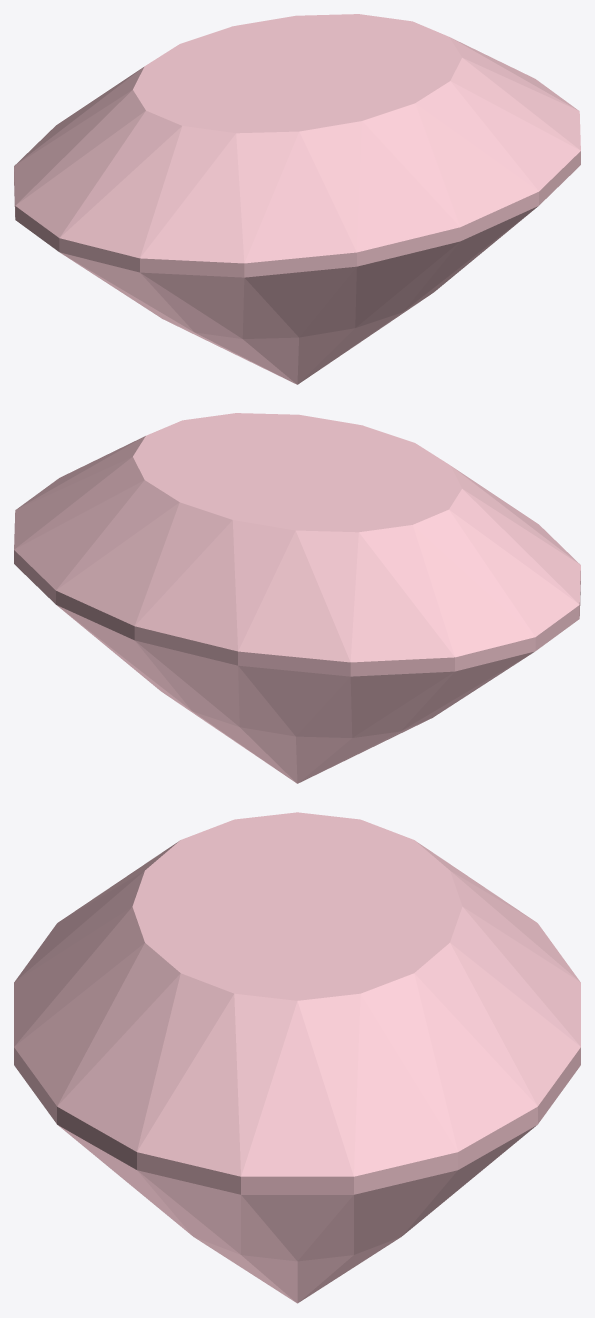
The model's file is morganite.glb.
The picture shows the model from 3 angles, top to bottom: view 1: azimuth 30°, elevation 25°; view 2: azimuth 150°, elevation 25°; view 3: azimuth 270°, elevation 25°; orthographic projection. The views are drawn at different scales.
Visible parts, largest first — view 1: morganite; view 2: morganite; view 3: morganite.
Part boxes in pixels (left/top/right/bottom): morganite: left=14, top=14, right=580, bottom=384; morganite: left=14, top=413, right=580, bottom=783; morganite: left=14, top=812, right=580, bottom=1303.
Bounding box in the file's own units: 0.25 × 0.1429 × 0.185.
